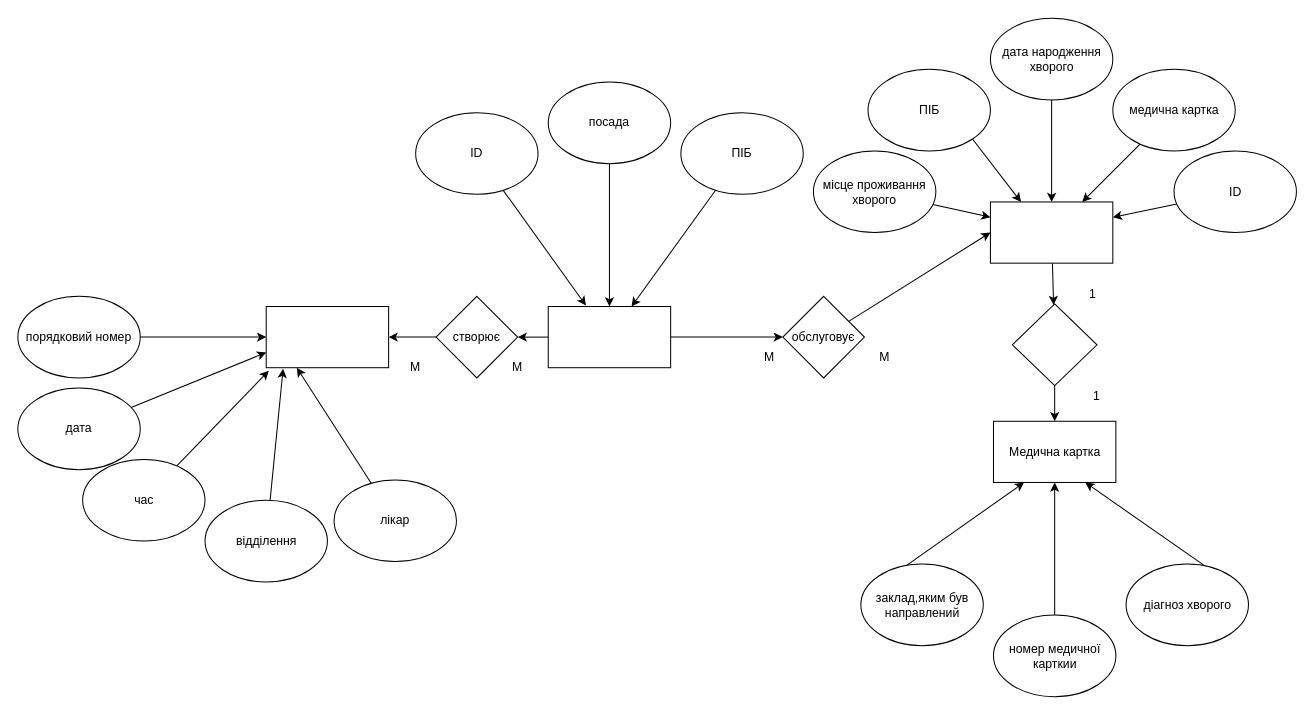
Some shapes in this 1315 by 714 pixel diagram are drawn without their labels. Each missing label, with the centre of its shape:
запис: pixel 327 336
має: pixel 1054 344
пацієнт: pixel 1051 232
персонал: pixel 609 336
